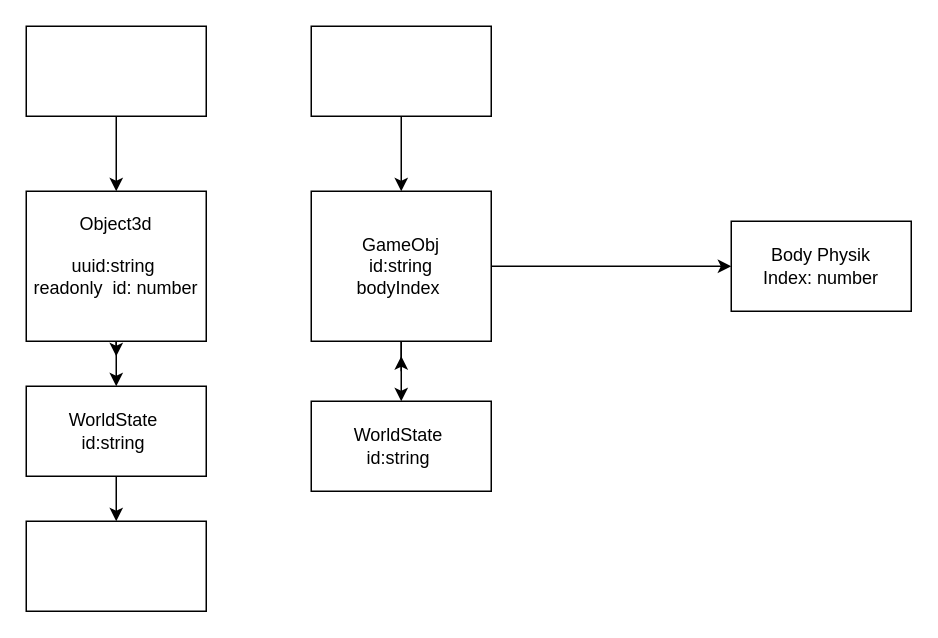
Some shapes in this 938 by 638 pixel diagram are drawn without their labels. Each missing label, with the box of its shape:
client: (25, 25, 206, 116)
Player: channelId: string: (25, 520, 206, 611)
Server: (310, 25, 491, 116)
